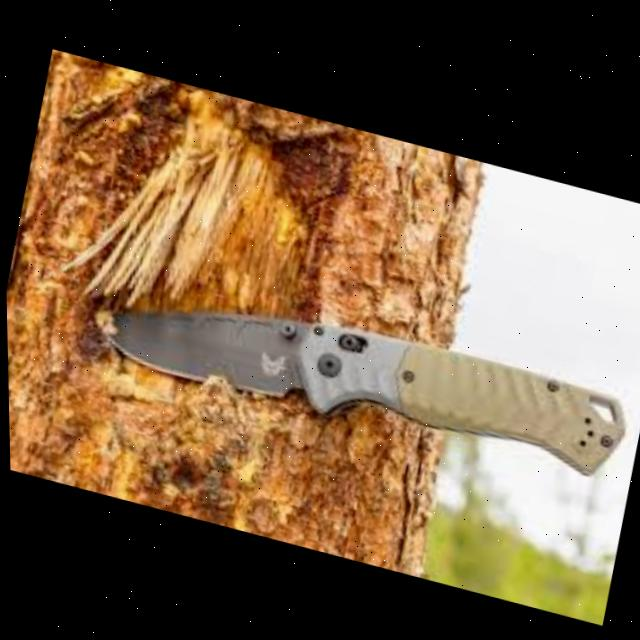Knife: (94, 257, 631, 483)
